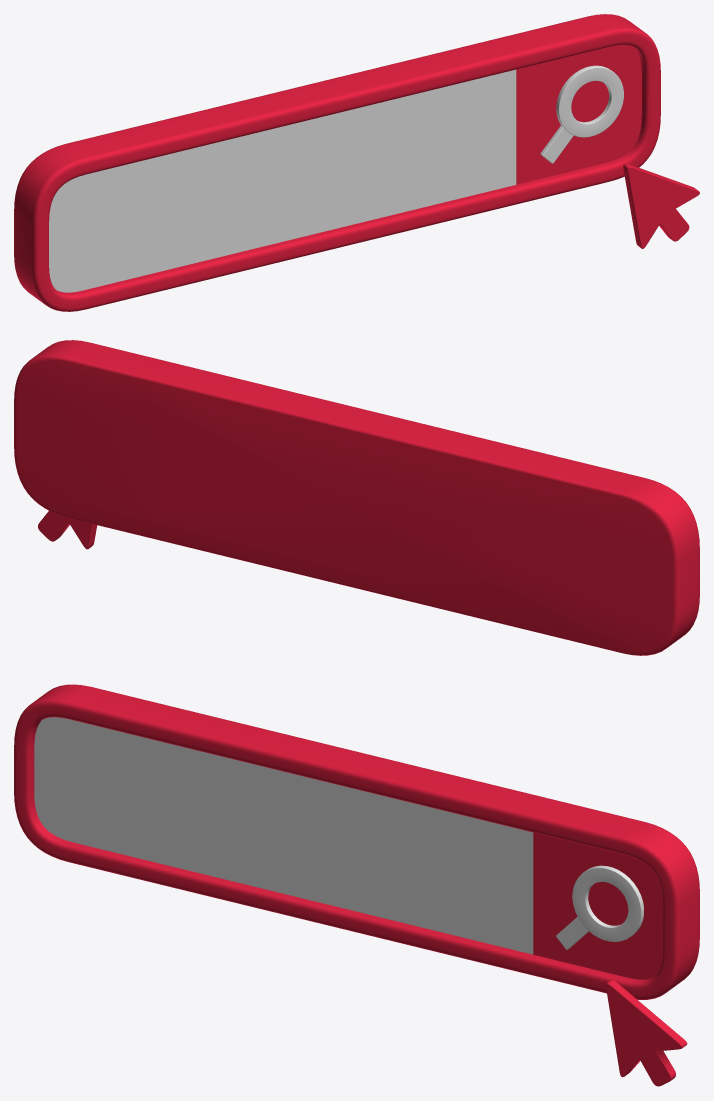
File: social-media-analytic-1678735410433.glb
The picture shows the model from 3 angles, top to bottom: view 1: azimuth 30°, elevation 25°; view 2: azimuth 150°, elevation 25°; view 3: azimuth 330°, elevation 25°; orthographic projection. The views are drawn at different scales.
Visible parts, largest first — view 1: Bar, Pointer, Magnifying Glass; view 2: Bar, Pointer; view 3: Bar, Pointer, Magnifying Glass.
Boxes of the visible parts, x1,y1,x2,y2 form: Bar: (14,14,660,311); Pointer: (623,163,699,248); Magnifying Glass: (540,65,623,163); Bar: (14,340,699,655); Pointer: (38,511,97,549); Bar: (14,684,699,999); Pointer: (606,979,687,1086); Magnifying Glass: (556,865,643,949).
Size of the model in its own units: 2.4 by 0.7403 by 0.2521.
